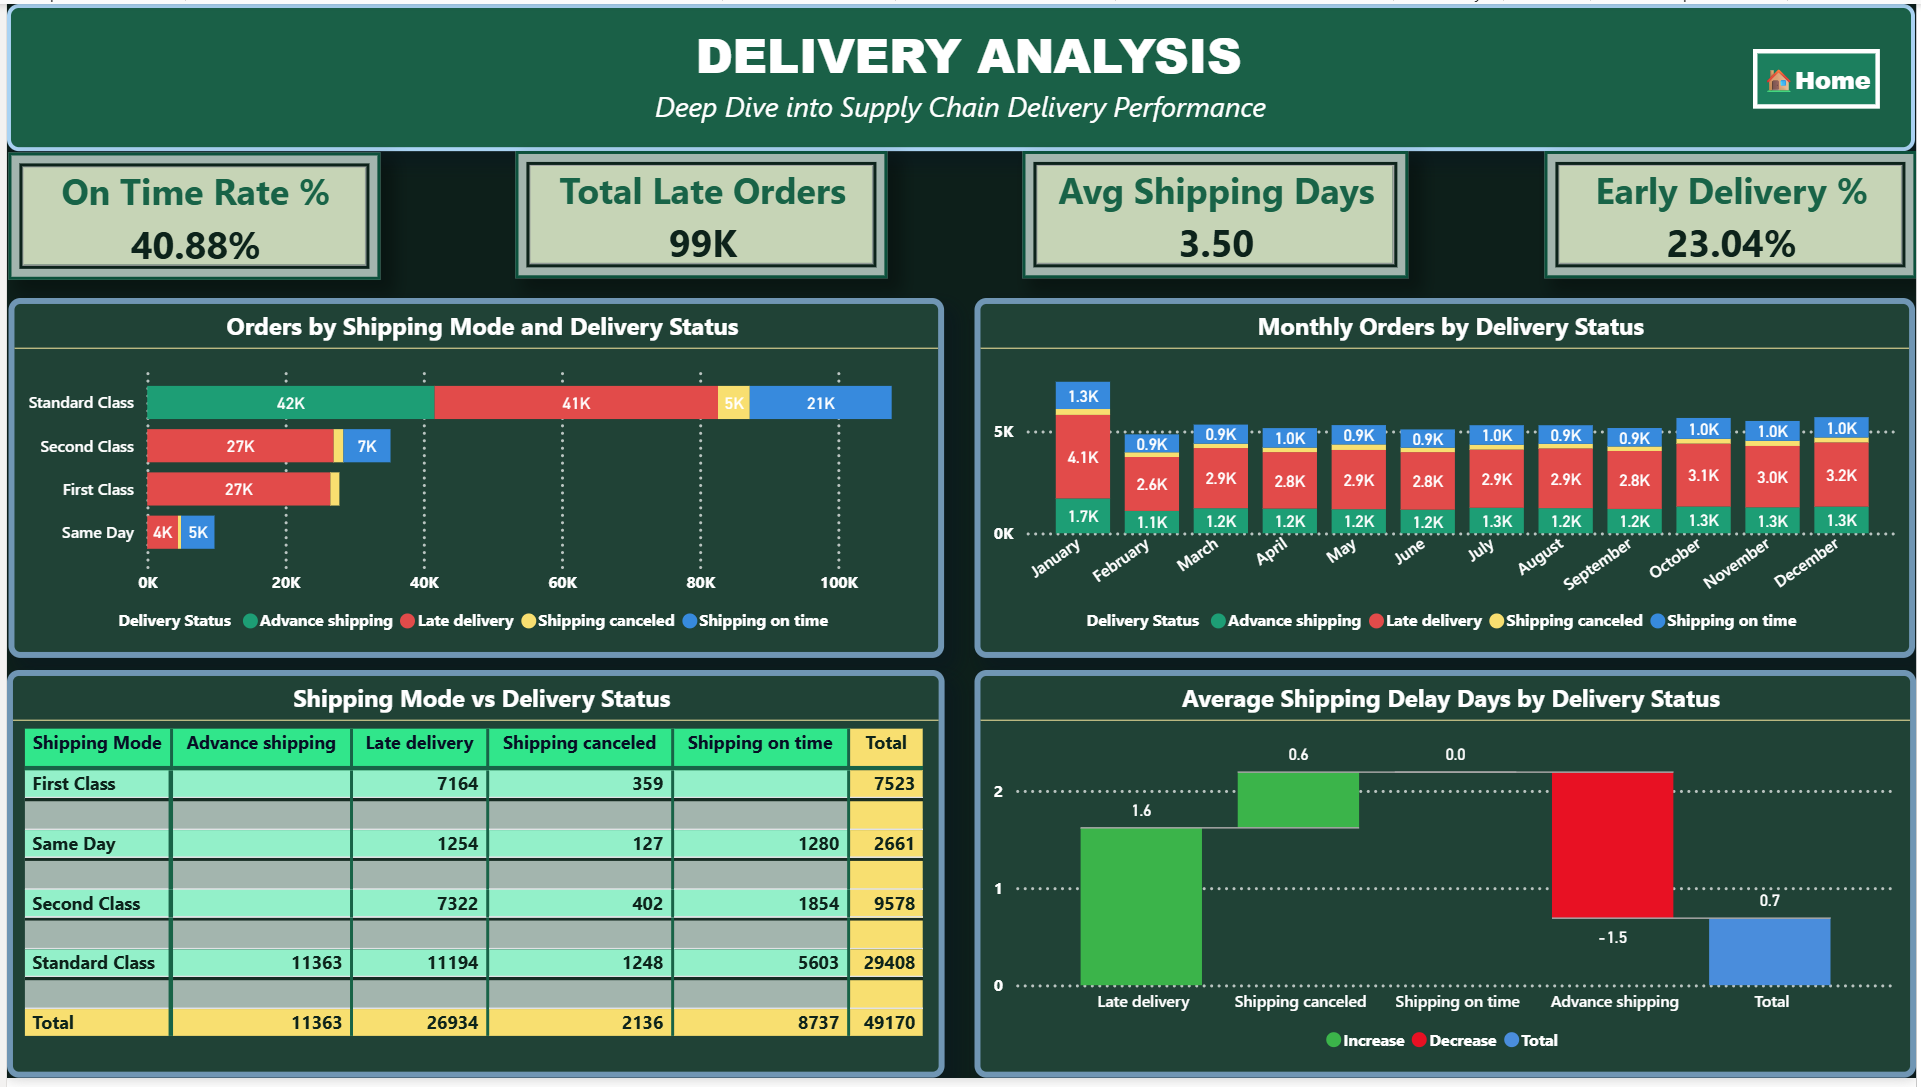

The dashboard page shown, as its layout file describes it:
{"tool":"powerbi","page":{"name":"Delivery Analysis","canvas":[1280,720],"ordinal":2},"visuals":[{"type":"textbox","box":[0,0,1279.3,98.6],"z":0},{"type":"cardVisual","fields":{"Data":["supply_chain_cleaned.Total Late Orders"]},"box":[341.2,98.6,249.4,85.5],"z":1000},{"type":"cardVisual","fields":{"Data":["supply_chain_cleaned.Avg Days"]},"box":[681.3,98.4,258.6,85.1],"z":2000},{"type":"cardVisual","fields":{"Data":["supply_chain_cleaned.On Time Rate %"]},"box":[1,99.6,249.4,85.5],"z":3000},{"type":"cardVisual","fields":{"Data":["supply_chain_cleaned.Early Delivery %"]},"box":[1030.6,98.6,249.4,85.5],"z":4000},{"type":"barChart","title":"Orders by Shipping Mode and Delivery Status","fields":{"Category":["supply_chain_cleaned.Shipping Mode"],"Series":["supply_chain_cleaned.Delivery Status"],"Y":["supply_chain_cleaned.Order Row Count"]},"box":[1,197.1,627.6,241.4],"z":5000},{"type":"columnChart","title":"Monthly Orders by Delivery Status","fields":{"Category":["supply_chain_cleaned.order date (DateOrders).Variation.Date Hierarchy.Month"],"Y":["supply_chain_cleaned.Total Orders"],"Series":["supply_chain_cleaned.Delivery Status"]},"box":[648.7,197.1,630.6,241.4],"z":6000},{"type":"waterfallChart","title":"Average Shipping Delay Days by Delivery Status","fields":{"Category":["supply_chain_cleaned.Delivery Status"],"Y":["supply_chain_cleaned.Shipping Delay Days"]},"box":[649,447,631,273],"z":7000},{"type":"pivotTable","title":"Shipping Mode vs Delivery Status","fields":{"Rows":["supply_chain_cleaned.Shipping Mode"],"Columns":["supply_chain_cleaned.Delivery Status"],"Values":["supply_chain_cleaned.Total Orders"]},"box":[0,446.4,628.6,273.6],"z":8000},{"type":"actionButton","box":[1171,30,85.1,40],"z":9000}]}

Visuals, with their boxes in screenshot pixels (x1, y1, x2, y2), scaled from the page's 1280x720 canvas onto the 1921x1087 screenshot:
textbox: <box>0,0,1920,149</box>
cardVisual - supply_chain_cleaned.Total Late Orders: <box>512,149,886,278</box>
cardVisual - supply_chain_cleaned.Avg Days: <box>1022,149,1411,277</box>
cardVisual - supply_chain_cleaned.On Time Rate %: <box>2,150,376,279</box>
cardVisual - supply_chain_cleaned.Early Delivery %: <box>1547,149,1920,278</box>
"Orders by Shipping Mode and Delivery Status" barChart: <box>2,298,943,662</box>
"Monthly Orders by Delivery Status" columnChart: <box>974,298,1920,662</box>
"Average Shipping Delay Days by Delivery Status" waterfallChart: <box>974,675,1920,1086</box>
"Shipping Mode vs Delivery Status" pivotTable: <box>0,674,943,1086</box>
actionButton: <box>1757,45,1885,106</box>
